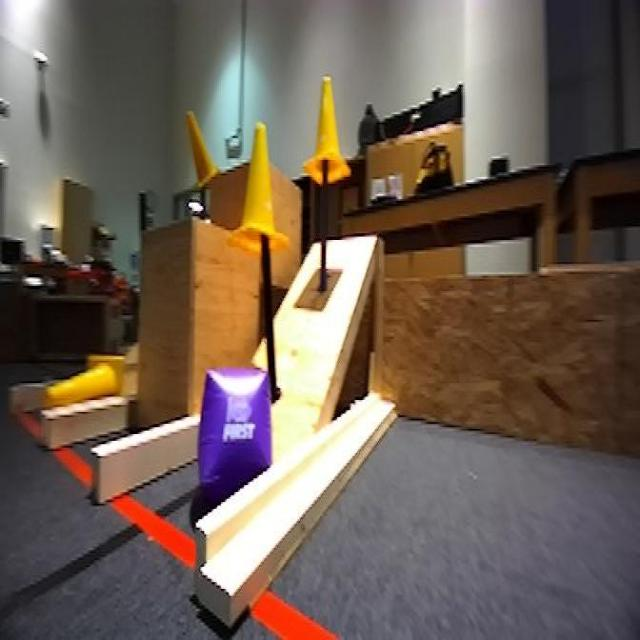frc_cone: (233, 128, 290, 250), (305, 75, 350, 185), (52, 351, 128, 414), (189, 109, 218, 194)
frc_cube: (188, 361, 273, 504)
